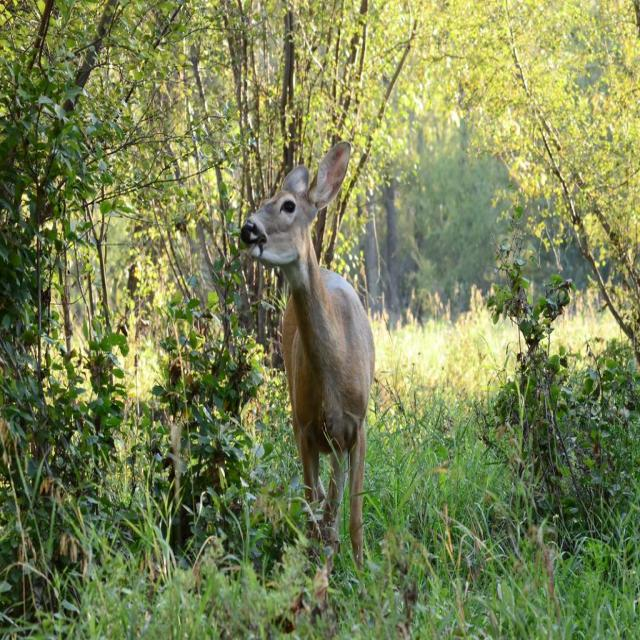Deer: (240, 146, 374, 584)
